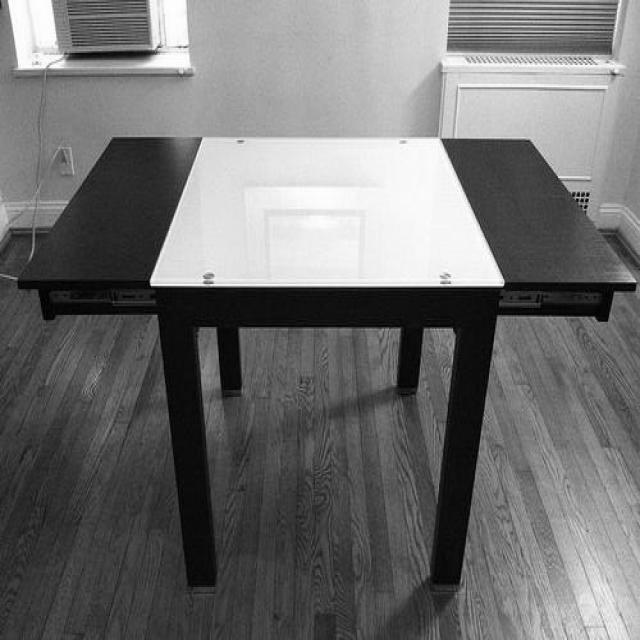table: (19, 135, 638, 589)
